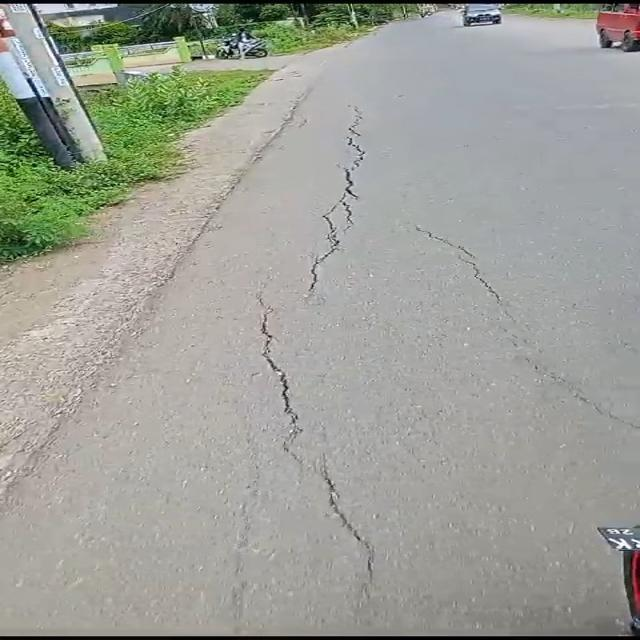Memanjang: (249, 294, 385, 572), (294, 104, 379, 313)
